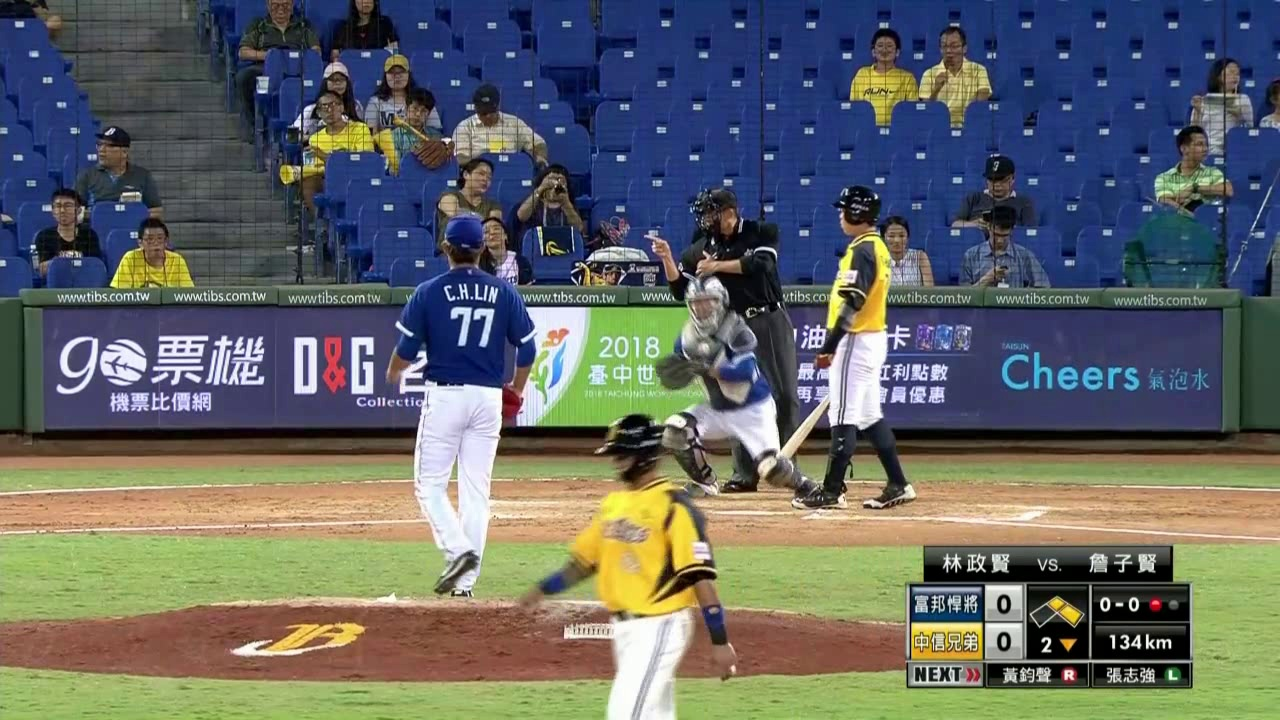base: (1027, 593, 1086, 627)
bat: (773, 377, 844, 461)
out: (1146, 589, 1182, 620)
score1: (987, 588, 1022, 621)
score2: (987, 626, 1022, 655)
session: (1030, 628, 1086, 659)
speed: (1093, 628, 1185, 657)
strikeball: (1095, 588, 1144, 620)
